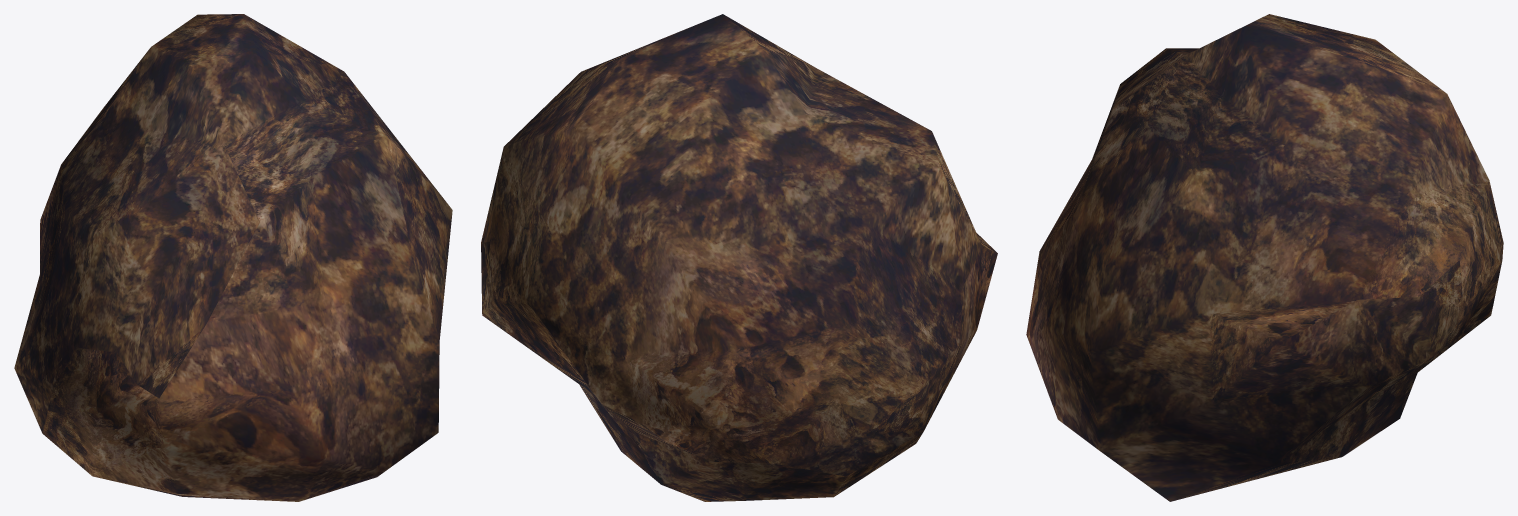
The model's file is stg600_obj_meteoriteA01.obj.
3 views of the same model, side by side, from view 1: azimuth 30°, elevation 25°; view 2: azimuth 150°, elevation 25°; view 3: azimuth 270°, elevation 25° (orthographic). The views are drawn at different scales.
Visible parts, largest first — view 1: polygon0; view 2: polygon0; view 3: polygon0.
Part boxes in pixels (bbox=[...]): polygon0: bbox=[14, 14, 452, 501]; polygon0: bbox=[481, 14, 997, 501]; polygon0: bbox=[1026, 14, 1503, 501].
Size of the model in its own units: 48.81 by 50.68 by 49.08.
Materials: 1 (1 with a texture image).
